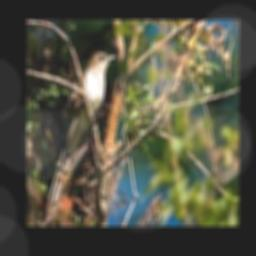Cuckoo: (48, 52, 116, 205)
